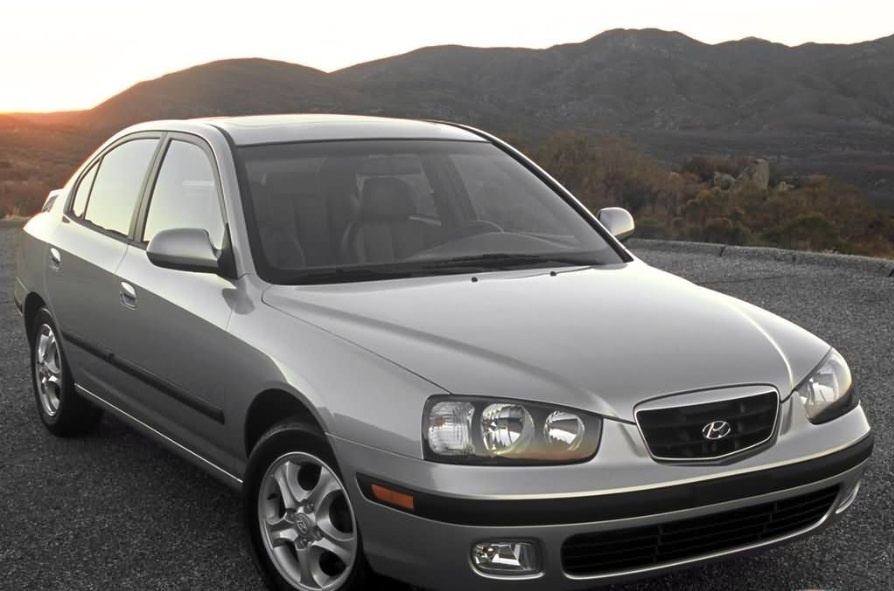family sedan: (17, 95, 866, 591)
